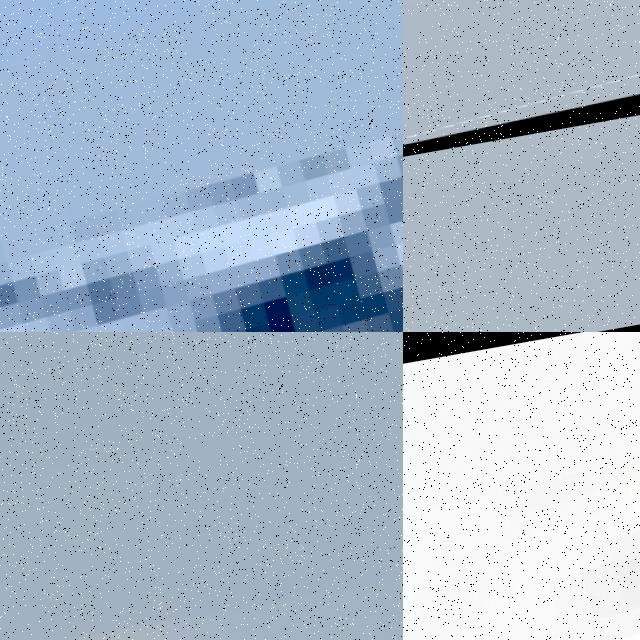0: (0, 0, 403, 332), (403, 0, 640, 214)
drone: (403, 332, 640, 640)
